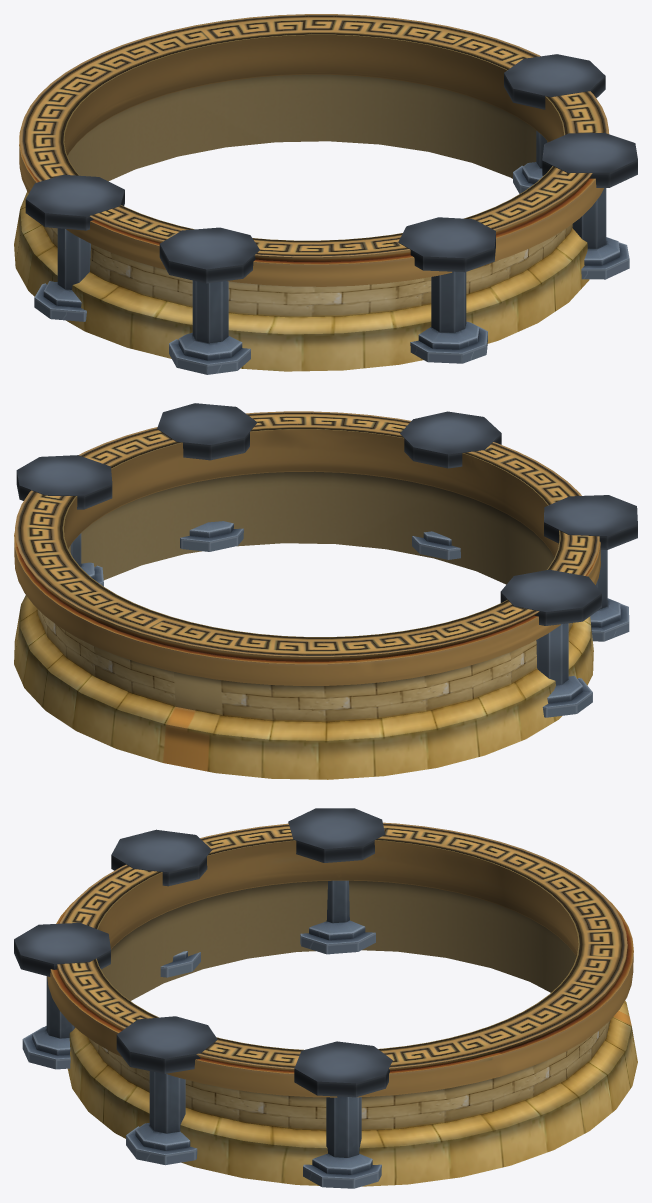
Rendered from chaofundo.018.fbx.
3 renders of one model, top to bottom at view 1: azimuth 30°, elevation 25°; view 2: azimuth 150°, elevation 25°; view 3: azimuth 270°, elevation 25°, orthographic.
Visible parts, largest first — view 1: chaofundo.018; view 2: chaofundo.018; view 3: chaofundo.018.
Part boxes in pixels (box(x1,y1,x2,y2)): chaofundo.018: box(14, 14, 637, 374); chaofundo.018: box(14, 403, 637, 779); chaofundo.018: box(14, 808, 637, 1188).
Bounding box in the file's own units: 2273 × 457 × 2178.
